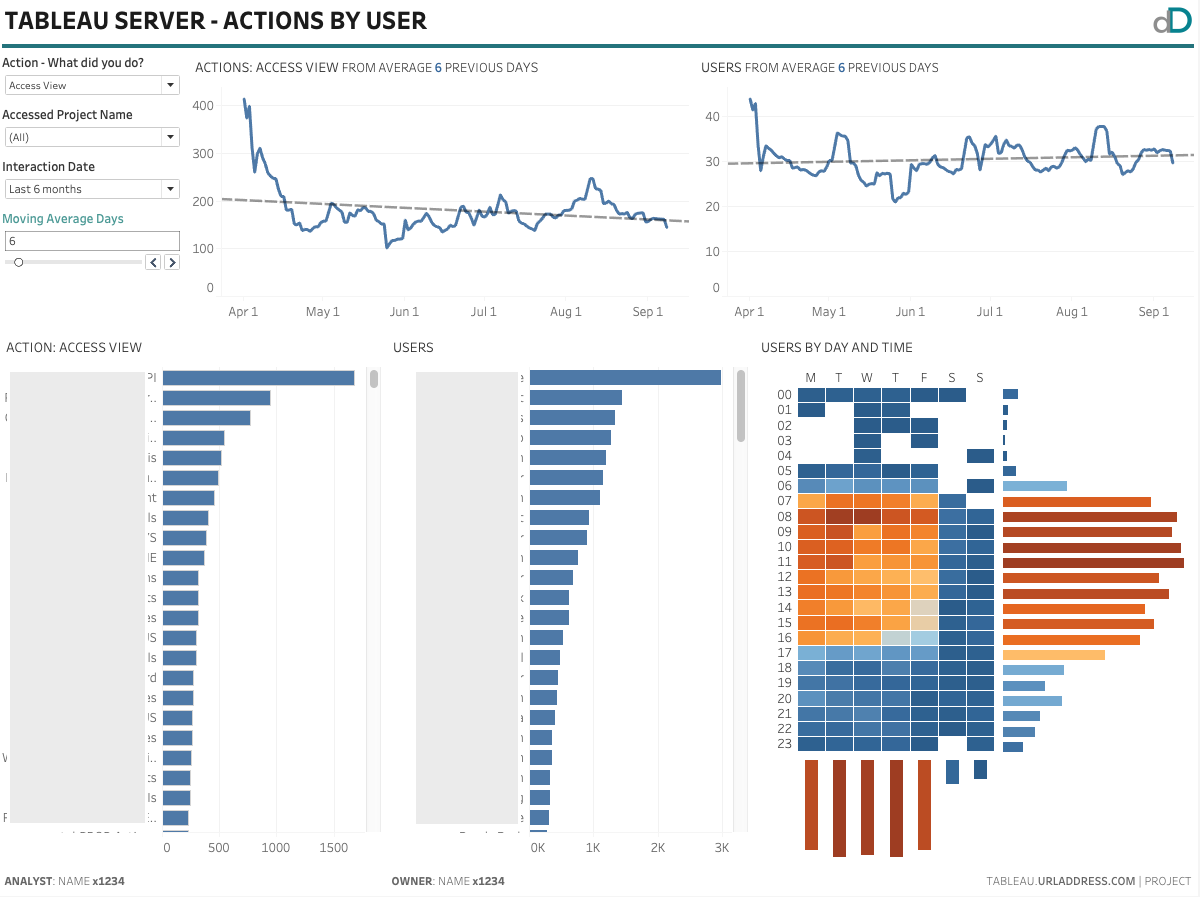

The dashboard page shown, as its layout file describes it:
{"tool":"tableau","page":{"name":"Tableau Server Actions","canvas":[1200,900],"ordinal":0},"visuals":[{"type":"worksheet","param":"vert","box":[0,0,1200,900]},{"type":"worksheet","param":"vert","box":[0,0,1200,54]},{"type":"worksheet","param":"horz","box":[0,0,1200,46]},{"type":"worksheet","box":[0,0,1150,46]},{"type":"worksheet","param":"Image/dD.png","box":[1150,0,50,46]},{"type":"worksheet","box":[0,46,1200,8]},{"type":"worksheet","param":"vert","box":[0,54,1200,816]},{"type":"worksheet","param":"horz","box":[0,54,1200,280]},{"type":"worksheet","param":"vert","box":[0,54,189,280]},{"type":"worksheet","title":"USERS ACCESSING VIEWS","mark":"Automatic","rows":["Calculation_6711137547011239936"],"cols":["Action - DateTime"],"param":"[federated.0d2kgq60u1en5a116g2mz1d69iry].[none:Action - What did you do?:nk]","box":[0,54,189,52]},{"type":"worksheet","title":"ACCESS COUNT -  ACCESSING VIEWS","mark":"Automatic","rows":["Calculation_377950571115753472"],"cols":["Action - DateTime"],"box":[189,54,505.5,280]},{"type":"worksheet","title":"USERS ACCESSING VIEWS","mark":"Automatic","rows":["Calculation_6711137547011239936"],"cols":["Action - DateTime"],"box":[694.5,54,505.5,280]},{"type":"worksheet","title":"TOP VIEWS","mark":"Bar","rows":["Calculation_6286180723542364168"],"cols":["Number of Records"],"param":"[federated.0d2kgq60u1en5a116g2mz1d69iry].[none:Accessed Project Name:nk]","box":[0,106,189,52]},{"type":"worksheet","title":"USERS ACCESSING VIEWS","mark":"Automatic","rows":["Calculation_6711137547011239936"],"cols":["Action - DateTime"],"param":"[federated.0d2kgq60u1en5a116g2mz1d69iry].[none:Action - DateTime:qk]","box":[0,158,189,69]},{"type":"worksheet","param":"[Parameters].[Parameter 1]","box":[0,227,189,75]},{"type":"worksheet","param":"horz","box":[0,334,1200,536]},{"type":"worksheet","title":"TOP VIEWS","mark":"Bar","rows":["Calculation_6286180723542364168"],"cols":["Number of Records"],"box":[0,334,387.5,536]},{"type":"worksheet","title":"TOP USERS","mark":"Automatic","rows":["User Name"],"cols":["Number of Records"],"box":[387.5,334,367.5,536]},{"type":"worksheet","box":[755,334,245,536]},{"type":"worksheet","box":[755,334,245,536]},{"type":"worksheet","param":"vert","box":[755,334,245,536]},{"type":"worksheet","title":"Daily by Hour","mark":"Automatic","rows":["Action - DateTime"],"cols":["Action - DateTime"],"box":[755,334,245,425]},{"type":"worksheet","box":[1000,334,200,536]},{"type":"worksheet","param":"vert","box":[1000,334,200,428.1]},{"type":"worksheet","title":"by Hour","mark":"Bar","rows":["Action - DateTime"],"cols":["User Name"],"box":[1000,334,200,428.1]},{"type":"worksheet","title":"by Day","mark":"Bar","rows":["User Name"],"cols":["Action - DateTime"],"box":[755,759,245,111]},{"type":"worksheet","param":"vert","box":[1000,762.1,200,107.9]},{"type":"worksheet","box":[1000,762.1,200,107.9]},{"type":"worksheet","param":"horz","box":[0,870,1200,30]},{"type":"worksheet","box":[0,870,386.7,30]},{"type":"worksheet","box":[386.7,870,386.7,30]},{"type":"worksheet","box":[773.3,870,426.7,30]}]}

Visuals, with their boxes in screenshot pixels (x1, y1, x2, y2), scaled from the page's 1200x900 canvas onto the 1200x897 screenshot:
worksheet: rect(0, 0, 1199, 896)
worksheet: rect(0, 0, 1199, 54)
worksheet: rect(0, 0, 1199, 46)
worksheet: rect(0, 0, 1150, 46)
worksheet: rect(1150, 0, 1199, 46)
worksheet: rect(0, 46, 1199, 54)
worksheet: rect(0, 54, 1199, 867)
worksheet: rect(0, 54, 1199, 333)
worksheet: rect(0, 54, 189, 333)
"USERS ACCESSING VIEWS" worksheet: rect(0, 54, 189, 106)
"ACCESS COUNT -  ACCESSING VIEWS" worksheet: rect(189, 54, 694, 333)
"USERS ACCESSING VIEWS" worksheet: rect(694, 54, 1199, 333)
"TOP VIEWS" worksheet (Bar marks): rect(0, 106, 189, 157)
"USERS ACCESSING VIEWS" worksheet: rect(0, 157, 189, 226)
worksheet: rect(0, 226, 189, 301)
worksheet: rect(0, 333, 1199, 867)
"TOP VIEWS" worksheet (Bar marks): rect(0, 333, 388, 867)
"TOP USERS" worksheet: rect(388, 333, 755, 867)
worksheet: rect(755, 333, 1000, 867)
worksheet: rect(755, 333, 1000, 867)
worksheet: rect(755, 333, 1000, 867)
"Daily by Hour" worksheet: rect(755, 333, 1000, 756)
worksheet: rect(1000, 333, 1199, 867)
worksheet: rect(1000, 333, 1199, 760)
"by Hour" worksheet (Bar marks): rect(1000, 333, 1199, 760)
"by Day" worksheet (Bar marks): rect(755, 756, 1000, 867)
worksheet: rect(1000, 760, 1199, 867)
worksheet: rect(1000, 760, 1199, 867)
worksheet: rect(0, 867, 1199, 896)
worksheet: rect(0, 867, 387, 896)
worksheet: rect(387, 867, 773, 896)
worksheet: rect(773, 867, 1199, 896)
